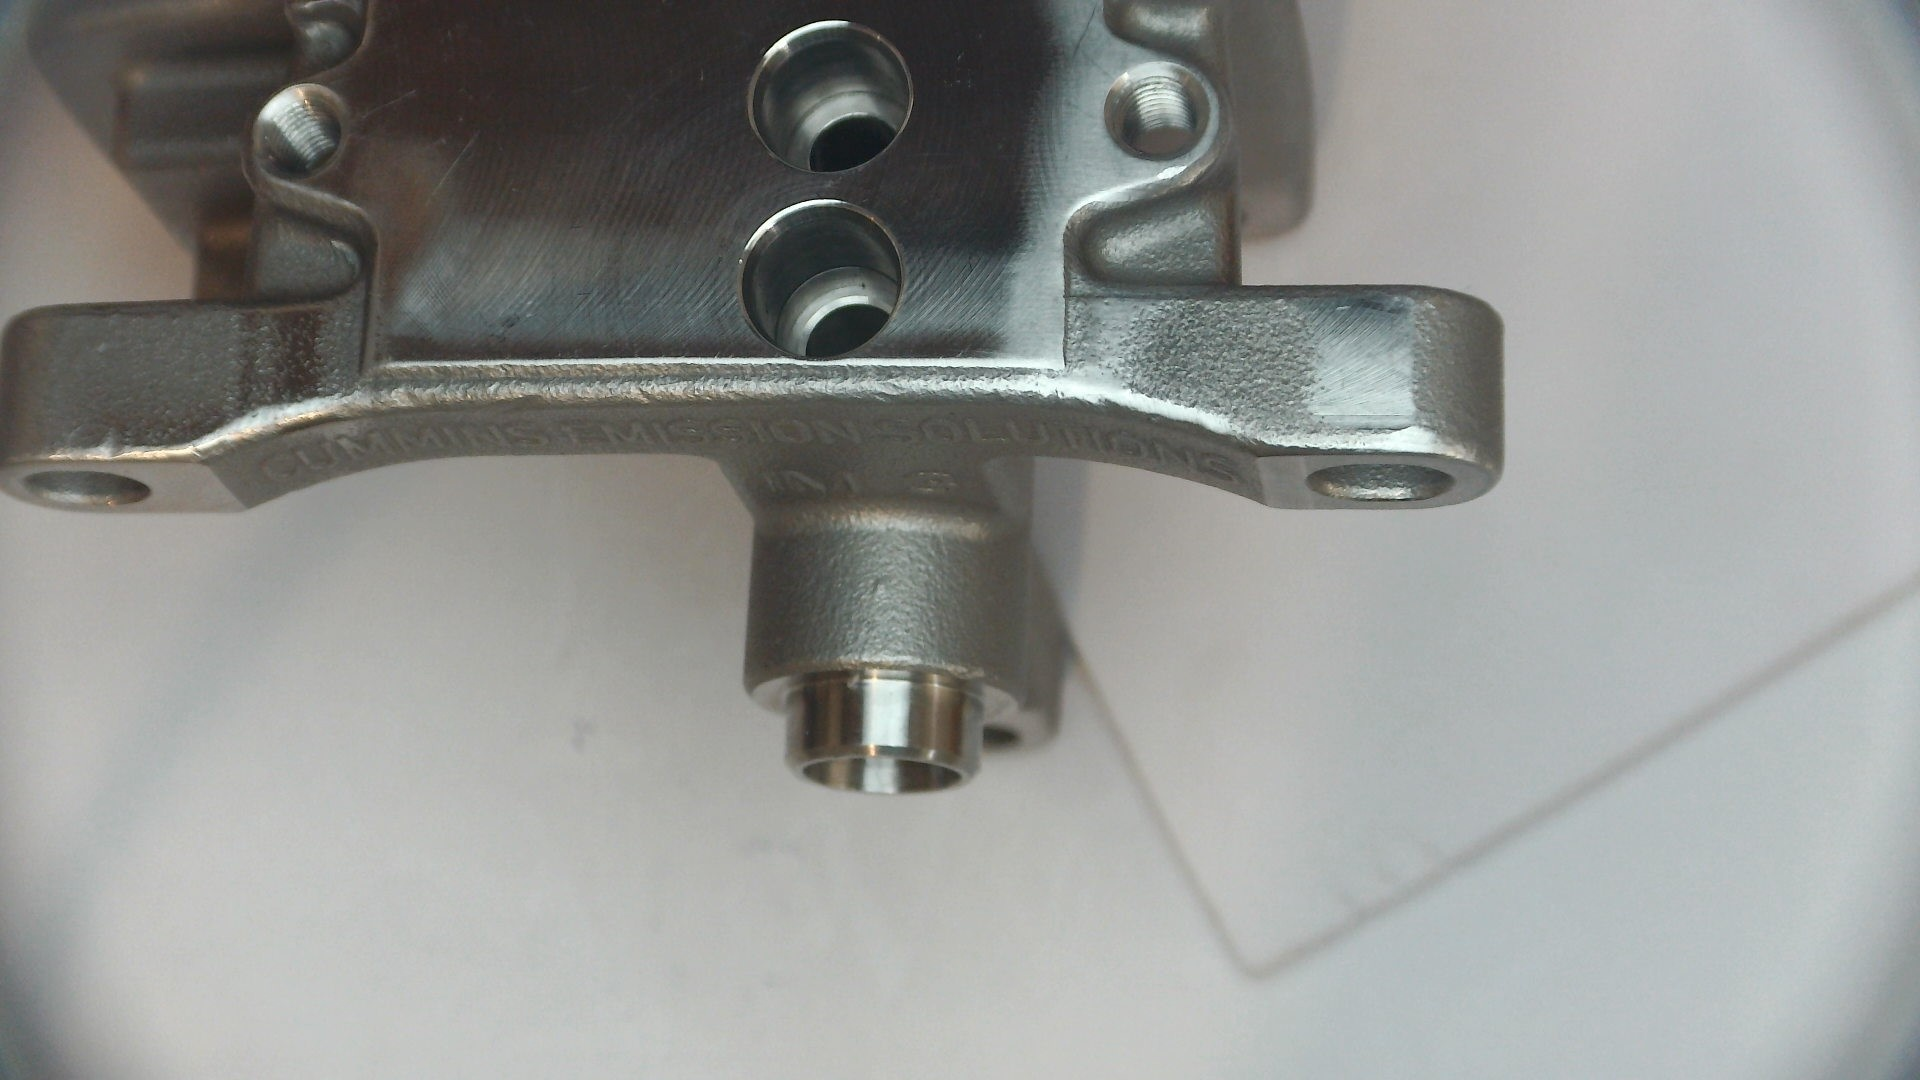thread_absence: (735, 193, 906, 368), (740, 12, 915, 174)
thread_presence: (260, 95, 340, 179), (1110, 73, 1204, 138)
